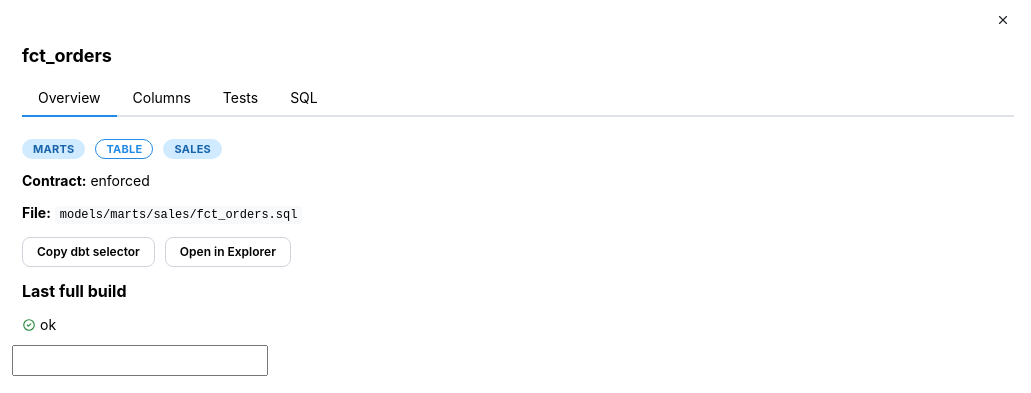
it: NodePanel › the Columns tab says so when the node has no columns
This screenshot has width=1031, height=393.
Click the tab "Columns".
click(162, 99)  # box [117, 81, 207, 117]
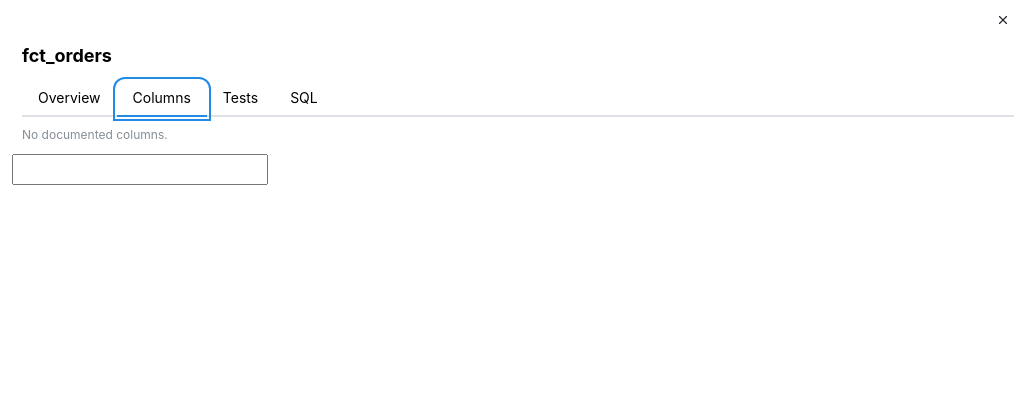
Result: the text "No documented columns." is shown at [22, 127, 168, 142]
